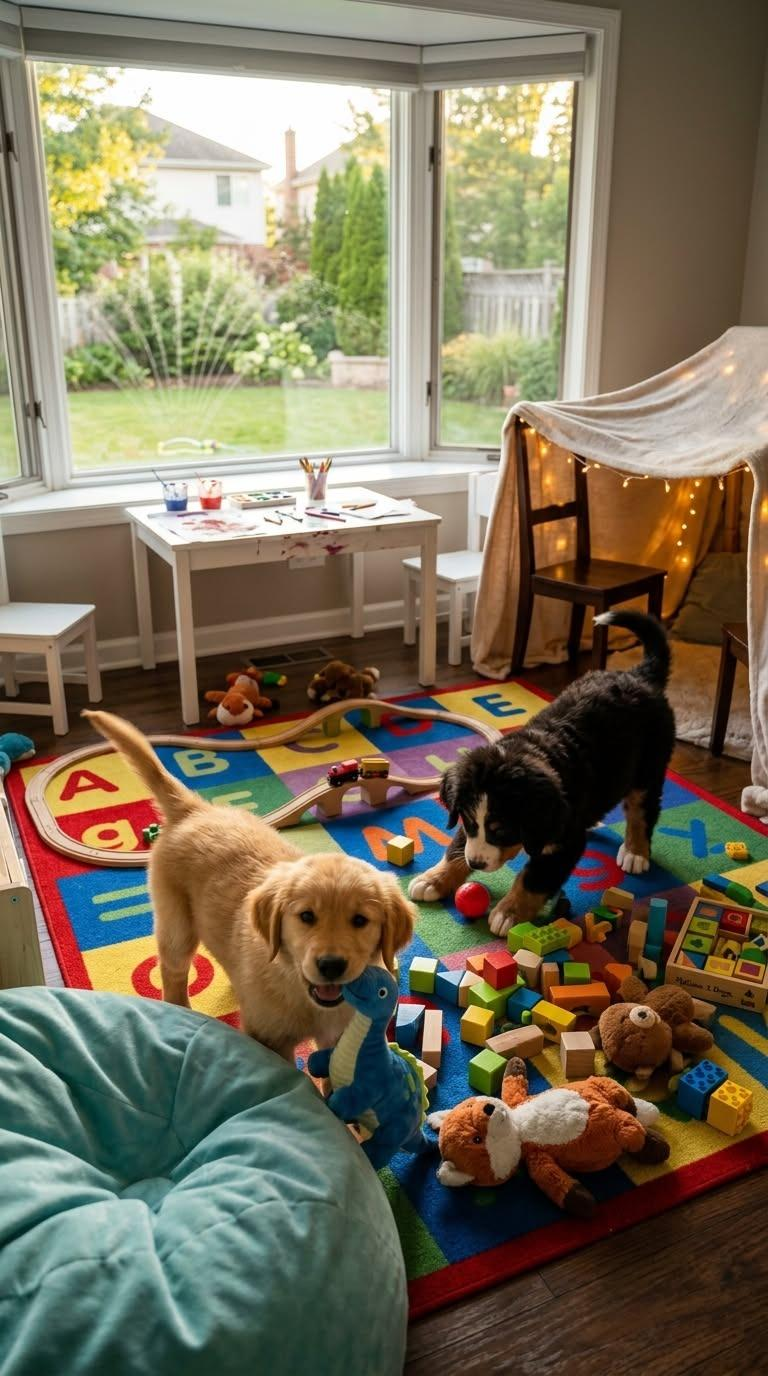puppy-dog: (82, 707, 415, 1097), (408, 610, 679, 937)
